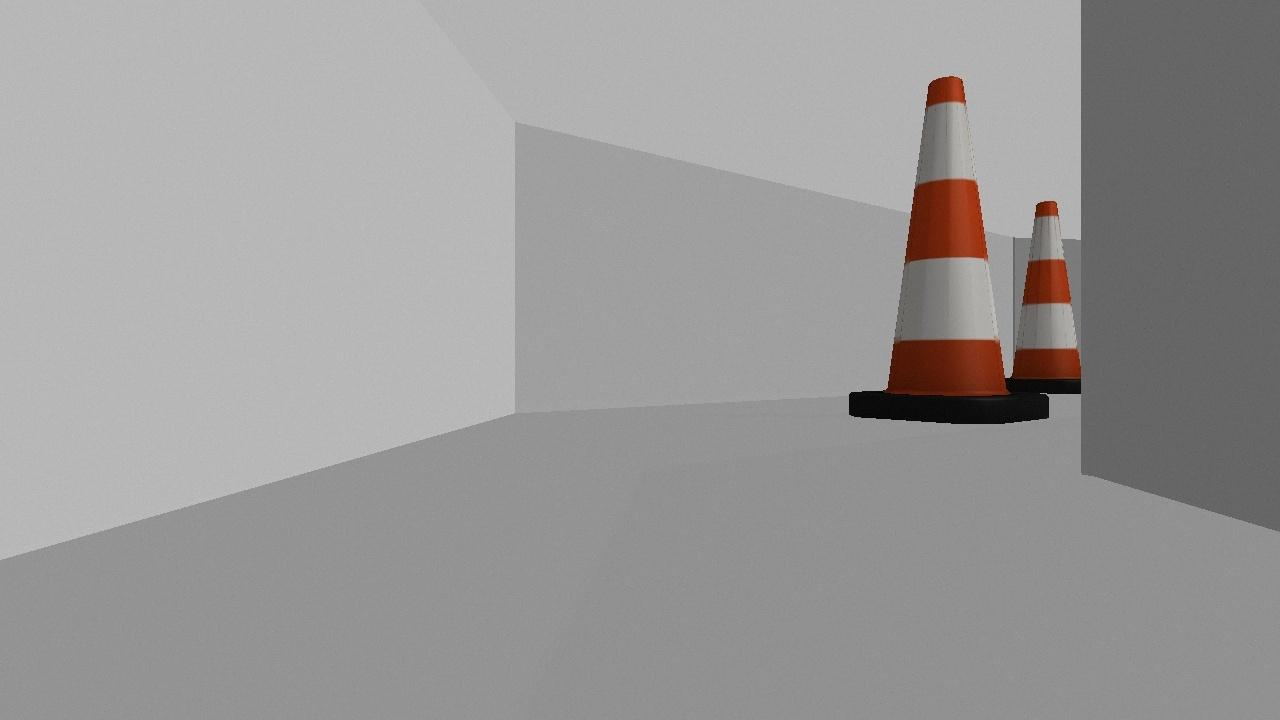cone_barrel: (848, 70, 1046, 423), (1003, 198, 1095, 393)
